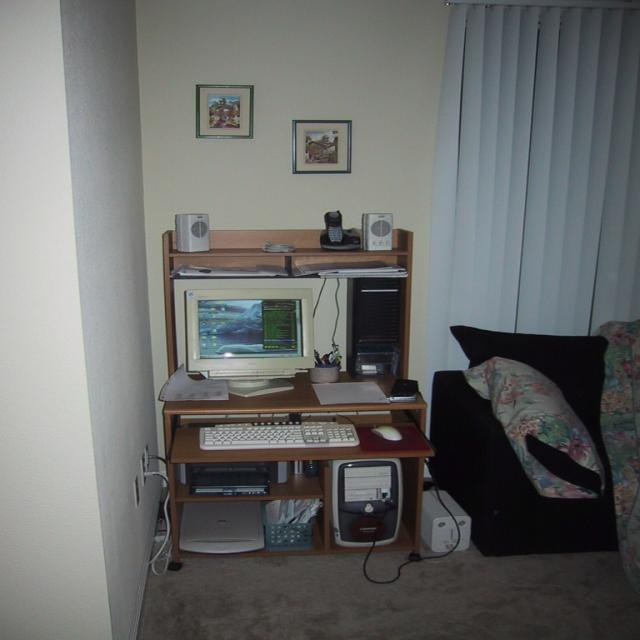desk: (162, 228, 436, 572)
keyboard: (199, 421, 359, 448)
mouse: (371, 424, 403, 442)
tv: (175, 280, 315, 380)
